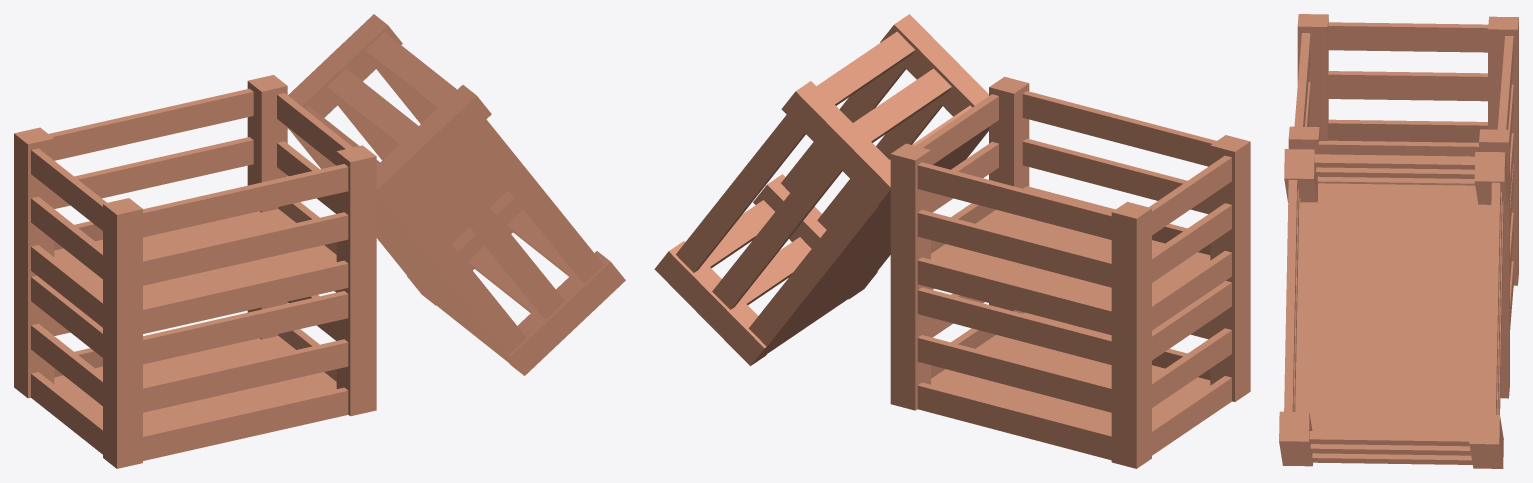
Rendered from Cratepile.fbx.
The picture shows the model from 3 angles, left to right: view 1: azimuth 30°, elevation 25°; view 2: azimuth 150°, elevation 25°; view 3: azimuth 270°, elevation 25°; orthographic projection. The views are drawn at different scales.
Visible parts, largest first — view 1: crate pile; view 2: crate pile; view 3: crate pile.
Part boxes in pixels (<box>): crate pile: <box>14,14,625,468</box>; crate pile: <box>654,14,1250,468</box>; crate pile: <box>1279,14,1518,468</box>.
Bounding box in the file's own units: 278 × 154 × 113.
